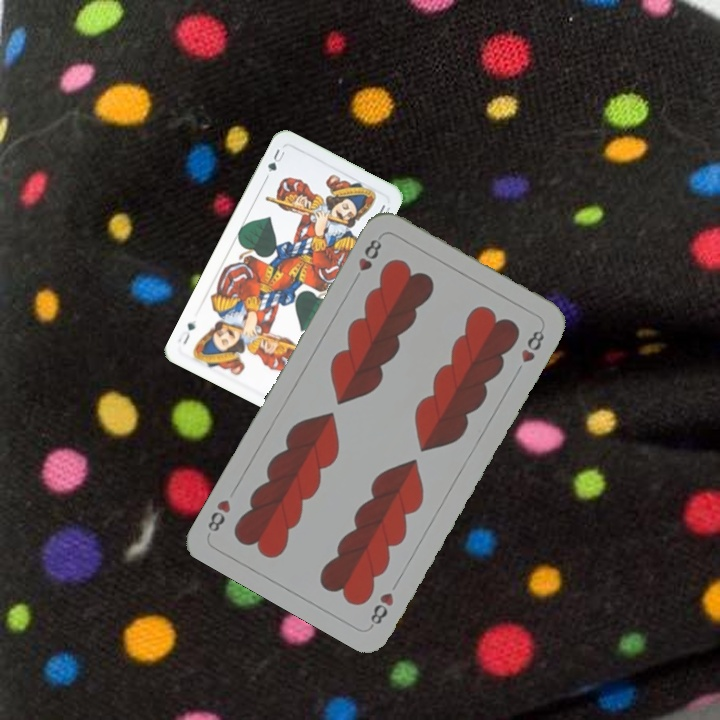GU: (263, 145, 287, 175)
H8: (366, 588, 397, 630), (354, 235, 385, 274)
